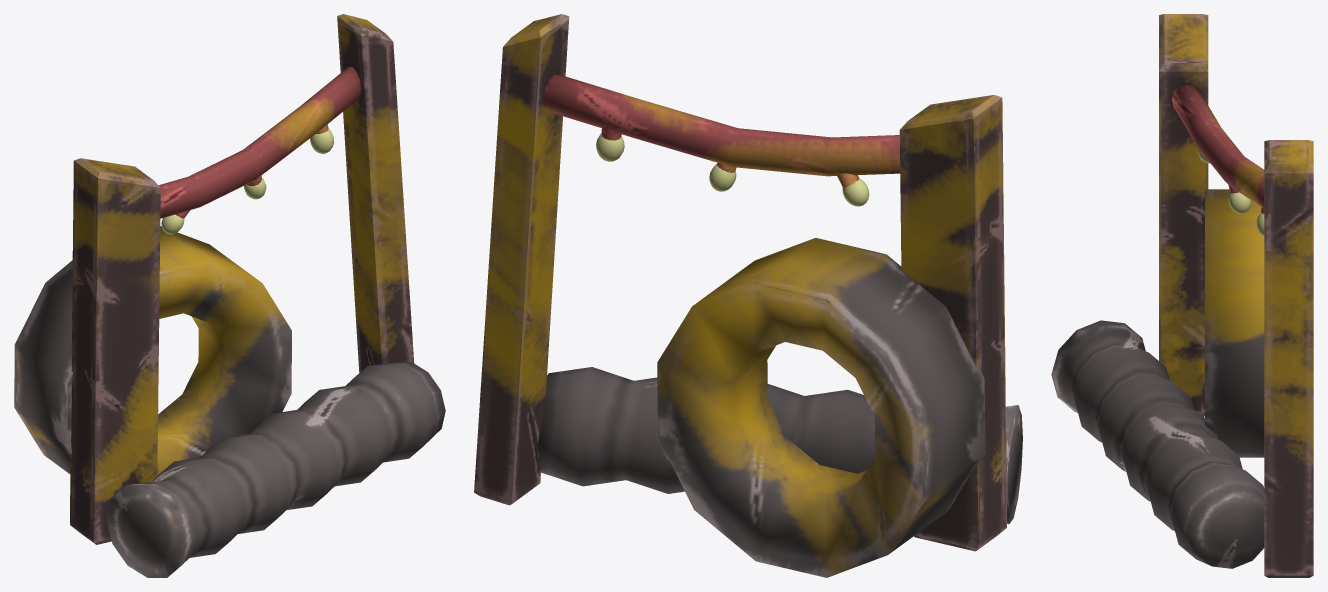
File: Barricada3.gltf
3 views of the same model, side by side, from view 1: azimuth 30°, elevation 25°; view 2: azimuth 150°, elevation 25°; view 3: azimuth 270°, elevation 25° (orthographic). The views are drawn at different scales.
Visible parts, largest first — view 1: Barricada3; view 2: Barricada3; view 3: Barricada3.
Boxes of the visible parts, x1,y1,x2,y2 form: Barricada3: [14, 14, 445, 577]; Barricada3: [474, 14, 1022, 577]; Barricada3: [1051, 14, 1313, 577].
Size of the model in its own units: 3.47 by 3.63 by 2.04.
Materials: 1 (1 with a texture image).
